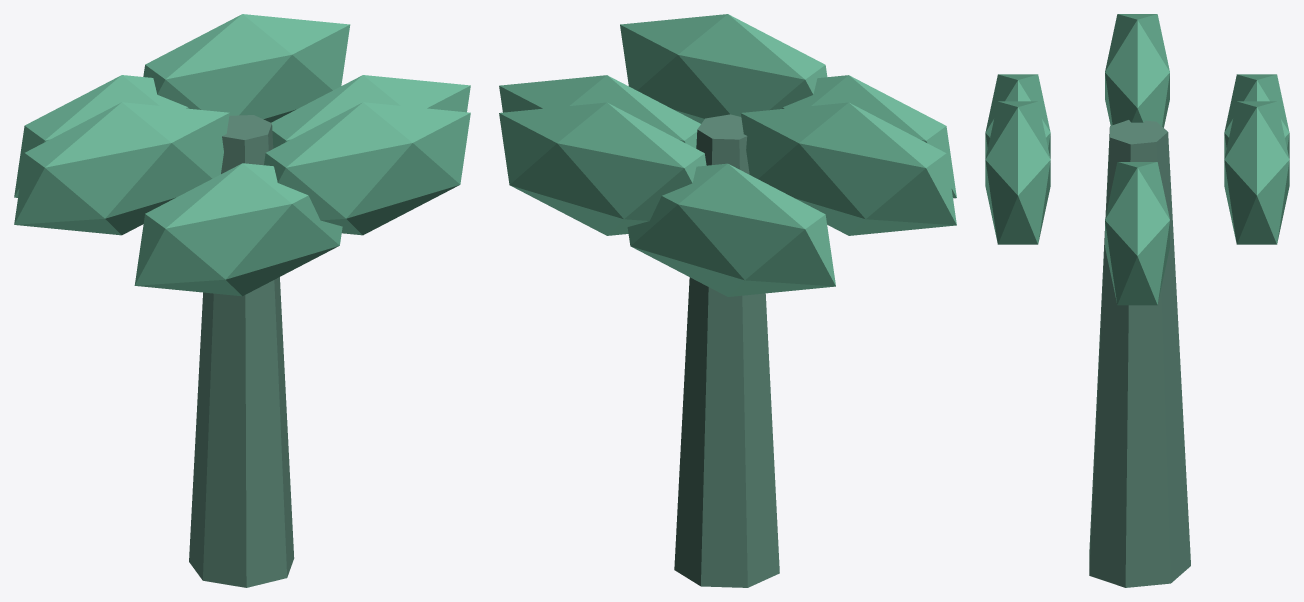
The model's file is Plant_03_LOD0.fbx.
3 renders of one model, left to right at view 1: azimuth 30°, elevation 25°; view 2: azimuth 150°, elevation 25°; view 3: azimuth 270°, elevation 25°, orthographic.
Parts seen in each view (by area): view 1: Plant_03_LOD0; view 2: Plant_03_LOD0; view 3: Plant_03_LOD0.
Part boxes in pixels (left/top/right/bottom): Plant_03_LOD0: left=14, top=14, right=470, bottom=587; Plant_03_LOD0: left=499, top=14, right=956, bottom=587; Plant_03_LOD0: left=985, top=14, right=1289, bottom=587.
Size of the model in its own units: 273 by 281 by 159.
